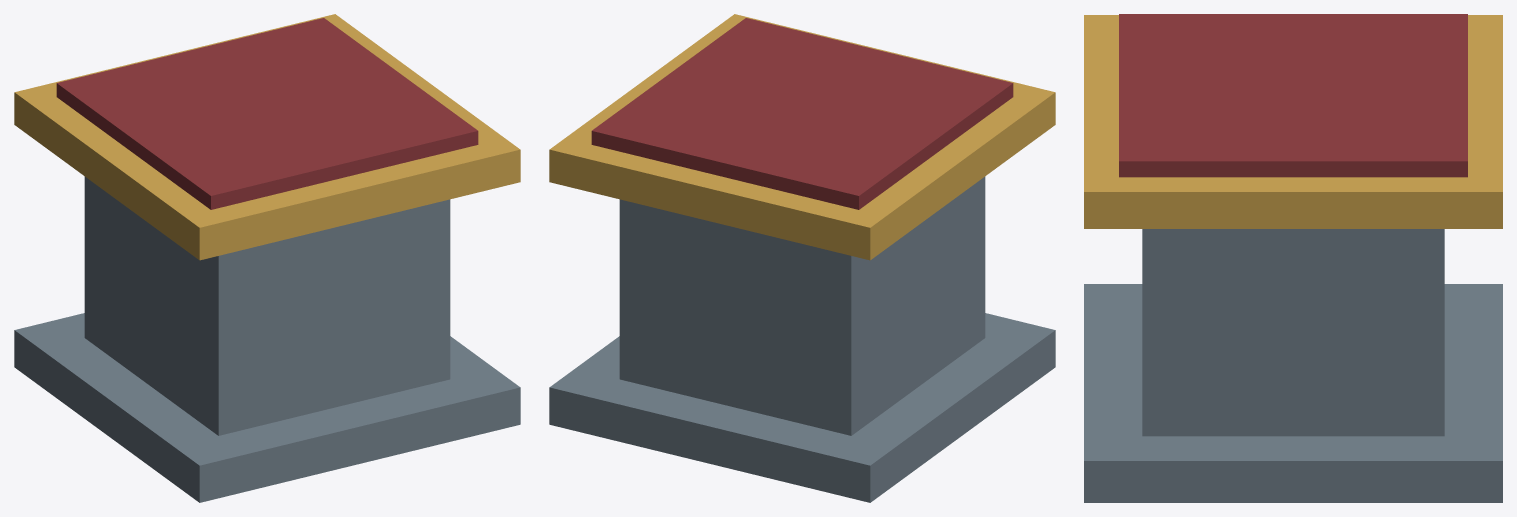
Rendered from display_plinth.glb.
3 views of the same model, side by side, from view 1: azimuth 30°, elevation 25°; view 2: azimuth 150°, elevation 25°; view 3: azimuth 270°, elevation 25° (orthographic). The views are drawn at different scales.
Visible parts, largest first — view 1: display_plinth; view 2: display_plinth; view 3: display_plinth.
Part boxes in pixels (bbox=[...]): display_plinth: bbox=[14, 14, 520, 502]; display_plinth: bbox=[549, 14, 1055, 502]; display_plinth: bbox=[1084, 14, 1502, 502].
Bounding box in the file's own units: 3.6 × 3.1 × 3.6.
